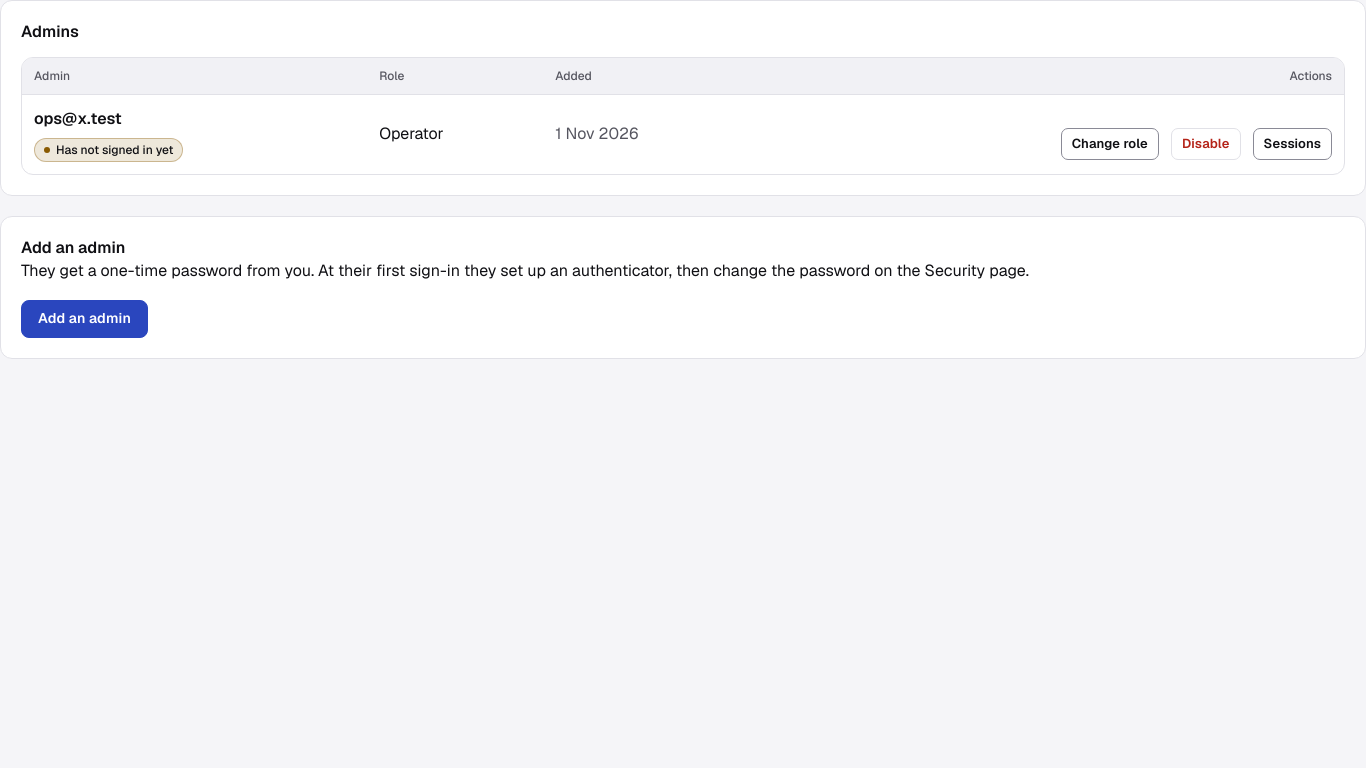
AdminsPanel › lists sessions and ends them
This screenshot has width=1366, height=768.
Click the button "Sessions": click(1292, 144) x1=1253 y1=128 x2=1332 y2=160
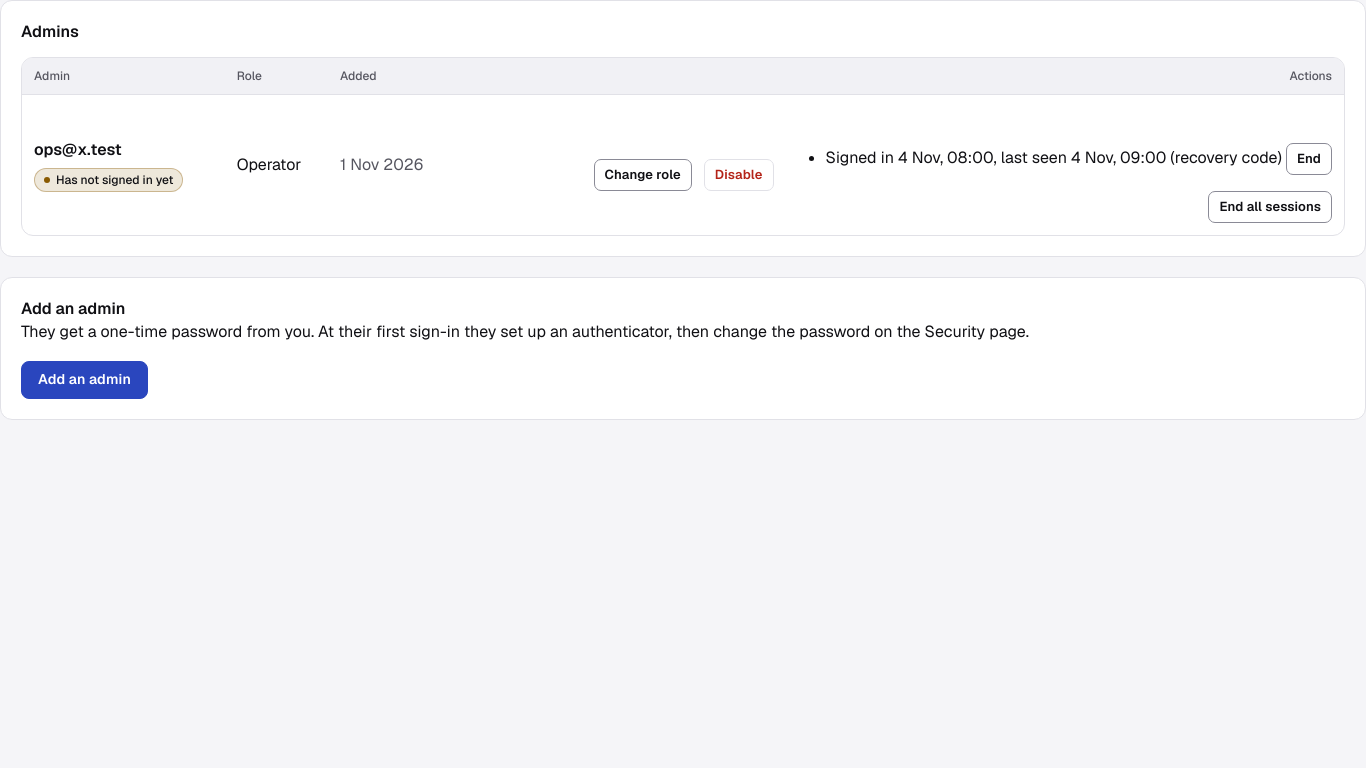
Result: the list item "recovery code" is shown at x1=1166 y1=147 x2=1282 y2=168
Click the button "End": click(1309, 159) x1=1286 y1=143 x2=1332 y2=175
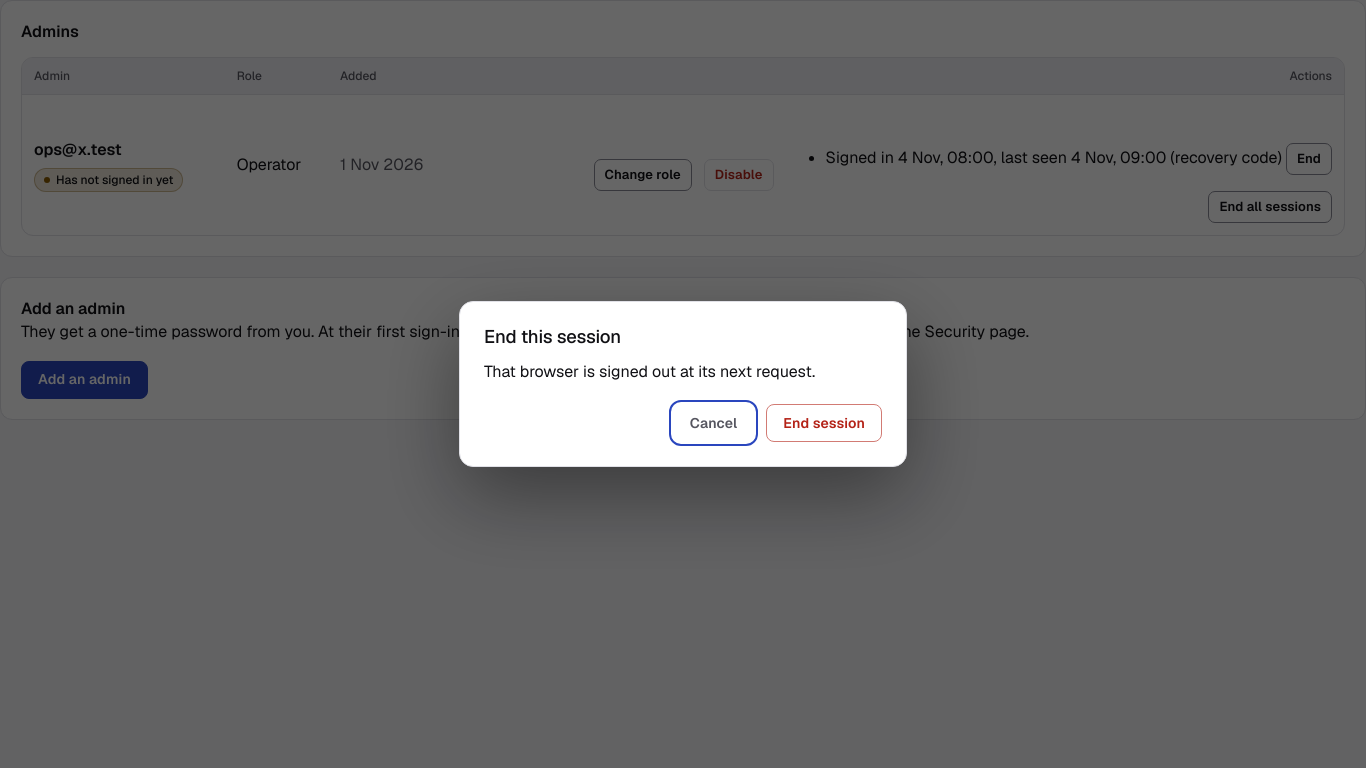
Click the button "End session": click(824, 423) x1=766 y1=404 x2=882 y2=442
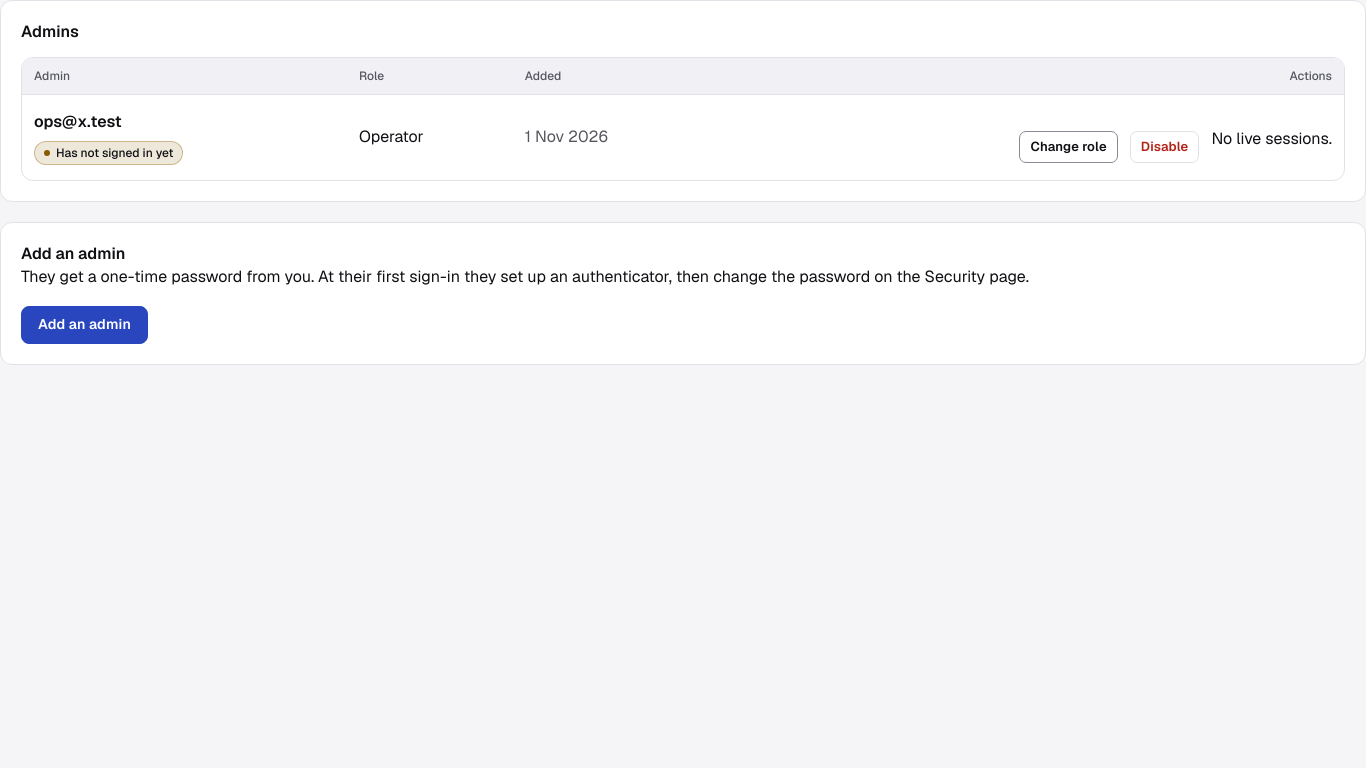
Result: the text "No live sessions." is shown at x1=1211 y1=127 x2=1332 y2=152
